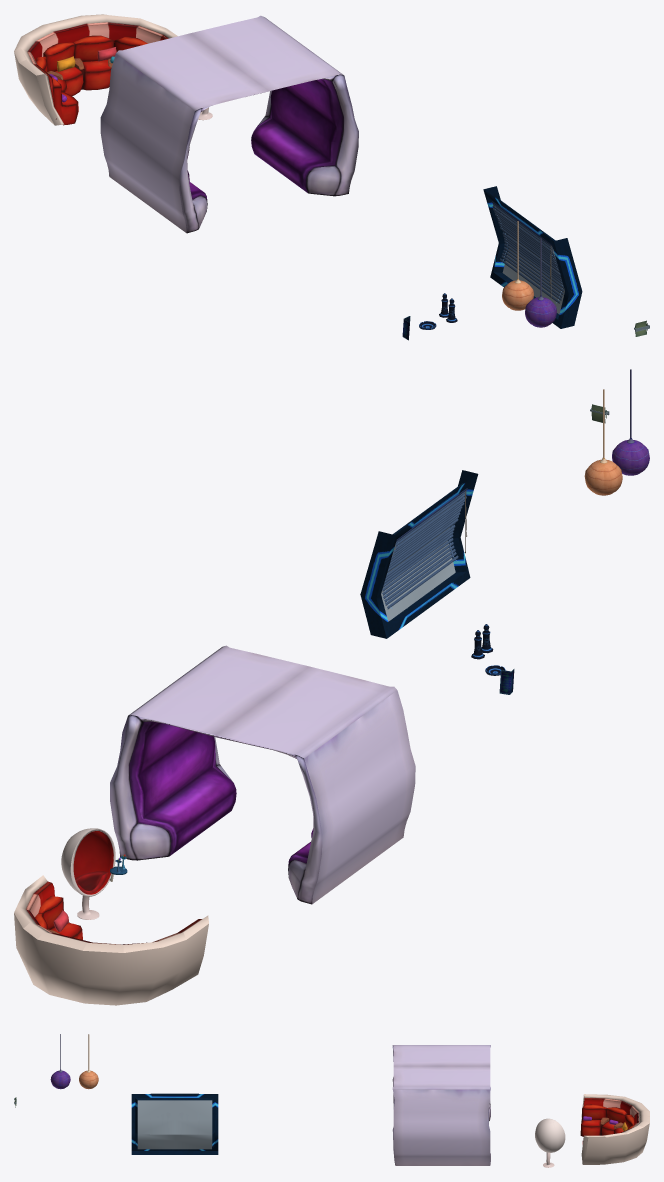
The model's file is LauraAssets_For_Liz.fbx.
The picture shows the model from 3 angles, top to bottom: view 1: azimuth 30°, elevation 25°; view 2: azimuth 150°, elevation 25°; view 3: azimuth 270°, elevation 25°; orthographic projection. The views are drawn at different scales.
Parts seen in each view (by area): view 1: L1_S1_archwaychair, L1_S1_Lounge1, polySurface18, polySurface63, polySurface52; view 2: L1_S1_archwaychair, L1_S1_Lounge1, polySurface18, L1_S2_EggChair, polySurface52, polySurface63; view 3: L1_S1_archwaychair, polySurface18, L1_S1_Lounge1, L1_S2_EggChair, polySurface52, polySurface63.
Boxes of the visible parts, box(x1,y1,x2,y2) form: L1_S1_archwaychair: box(100, 15, 358, 233); L1_S1_Lounge1: box(14, 14, 177, 125); polySurface18: box(483, 186, 582, 328); polySurface63: box(525, 237, 556, 327); polySurface52: box(502, 221, 533, 310); L1_S1_archwaychair: box(110, 645, 415, 904); L1_S1_Lounge1: box(14, 875, 208, 1005); polySurface18: box(360, 470, 478, 638); L1_S2_EggChair: box(61, 828, 115, 919); polySurface52: box(584, 389, 622, 495); polySurface63: box(612, 369, 649, 475); L1_S1_archwaychair: box(392, 1045, 490, 1165); polySurface18: box(131, 1093, 218, 1154); L1_S1_Lounge1: box(580, 1094, 649, 1164); L1_S2_EggChair: box(535, 1118, 565, 1167); polySurface52: box(79, 1034, 98, 1089); polySurface63: box(50, 1034, 70, 1089).
Size of the model in its own units: 673 by 634 by 3188.
